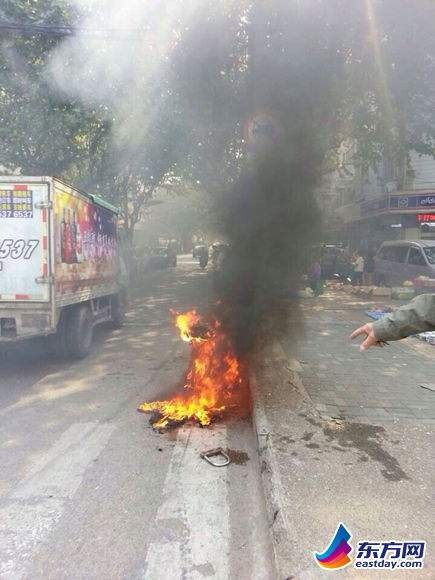fire: (141, 302, 271, 434)
